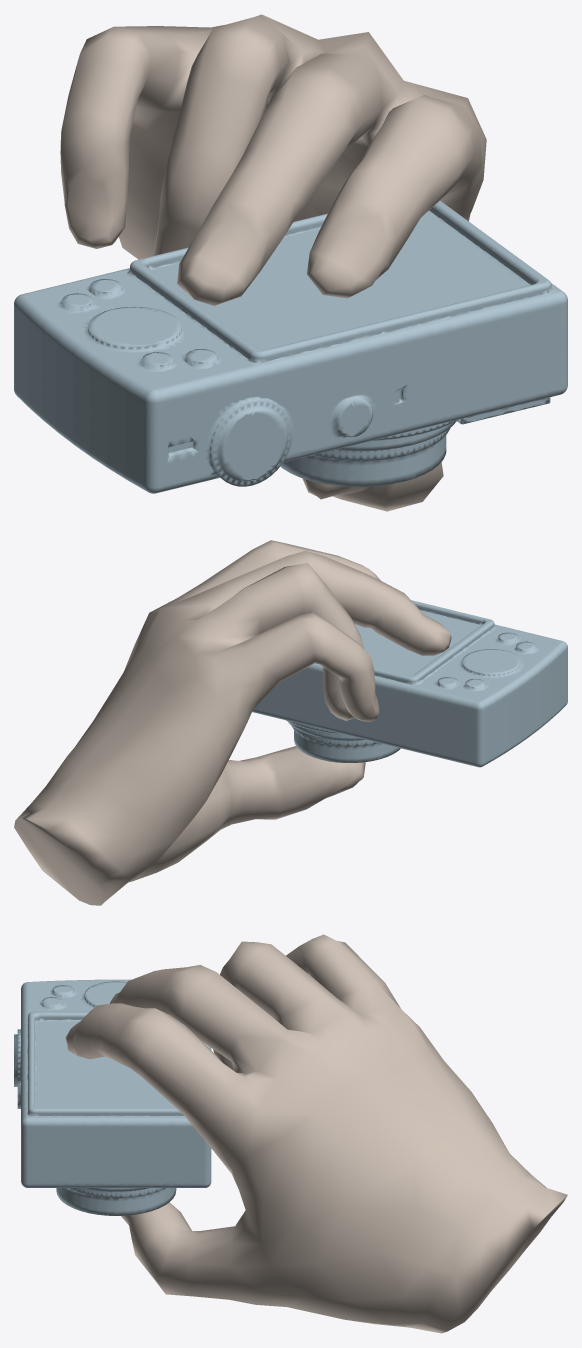
The model's file is ours_2.glb.
3 views of the same model, one above another, from view 1: azimuth 30°, elevation 25°; view 2: azimuth 150°, elevation 25°; view 3: azimuth 270°, elevation 25° (orthographic). The views are drawn at different scales.
Bounding box in the file's own units: 0.1481 × 0.1196 × 0.1893.
